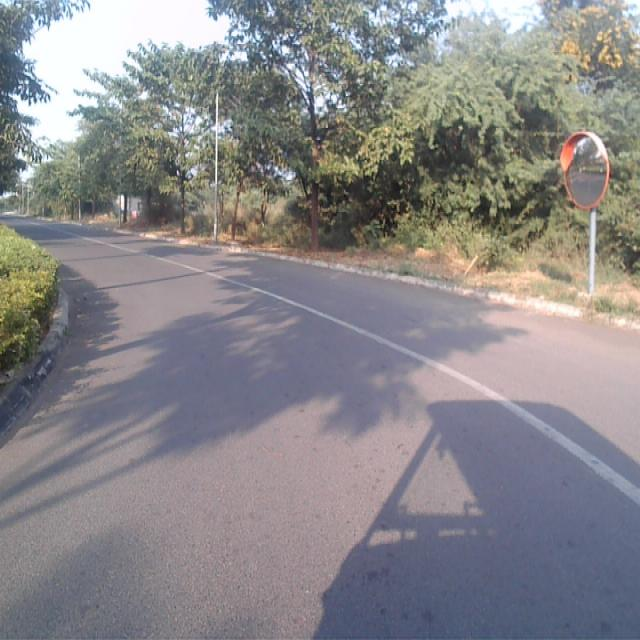lane: (0, 221, 640, 640)
